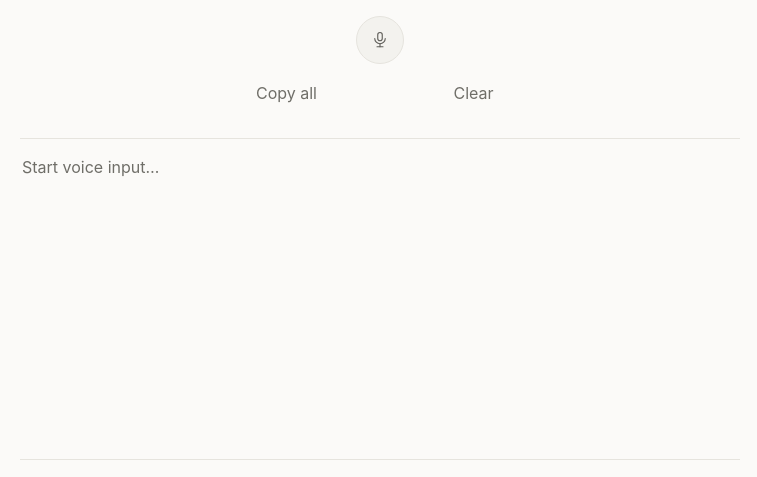
Test: VoiceView in static export › shows hits but never the create-note UI
The width and height of the screenshot is (757, 477).
In the text box with placeholder "Start voice input…": (380, 299) [20,139,740,459], type "spoken words"
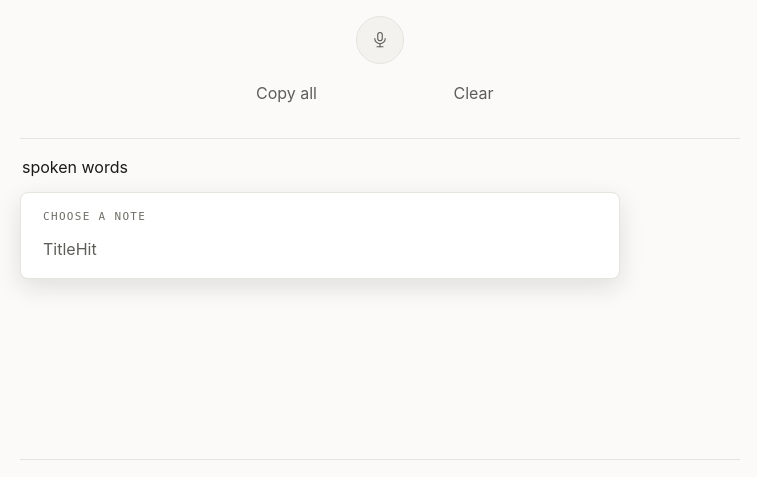
Now the button "TitleHit" is shown, box [33,232,575,266]
